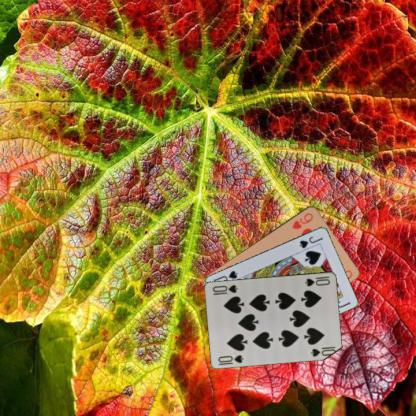10s: (303, 273, 331, 288), (215, 352, 245, 364)
9h: (290, 210, 314, 230)
Js: (297, 233, 324, 250)
